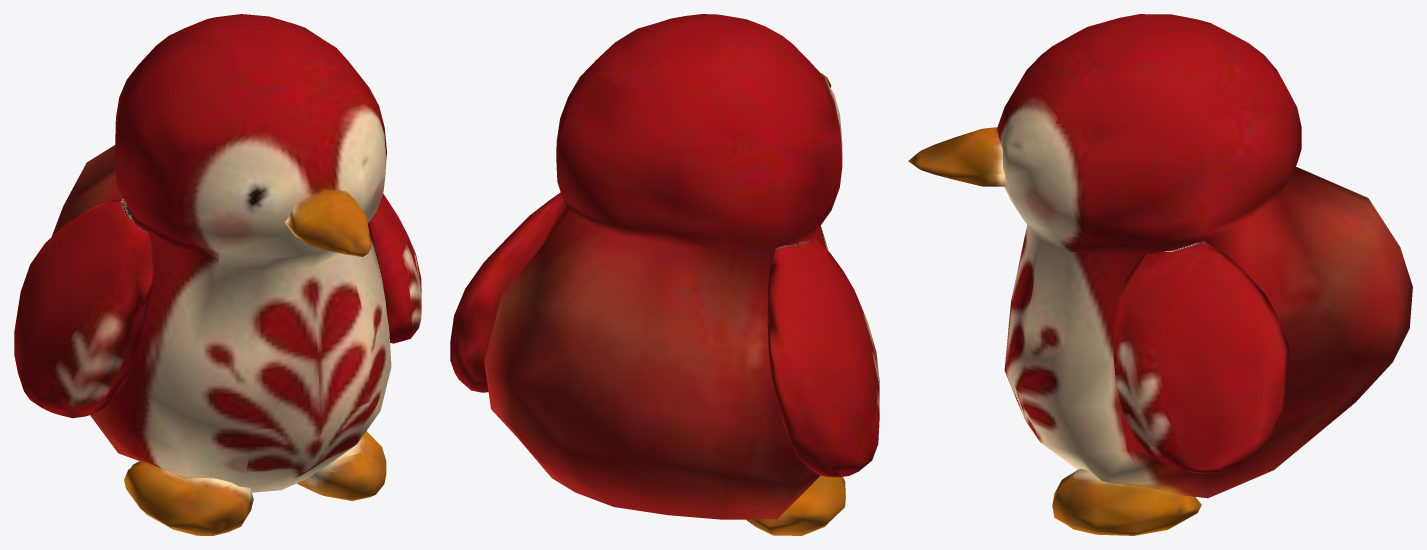
Rendered from penguin-01-11-red-and-white-folk.gltf.
3 views of the same model, side by side, from view 1: azimuth 30°, elevation 25°; view 2: azimuth 150°, elevation 25°; view 3: azimuth 270°, elevation 25° (orthographic). The views are drawn at different scales.
Parts seen in each view (by area): view 1: penguin-01-11-red-and-white-folk; view 2: penguin-01-11-red-and-white-folk; view 3: penguin-01-11-red-and-white-folk.
Boxes of the visible parts, bbox=[...] form: penguin-01-11-red-and-white-folk: bbox=[14, 14, 421, 535]; penguin-01-11-red-and-white-folk: bbox=[450, 14, 879, 535]; penguin-01-11-red-and-white-folk: bbox=[908, 14, 1412, 535].
Size of the model in its own units: 0.2 by 0.2255 by 0.2245.
1 material, 1 textured.
